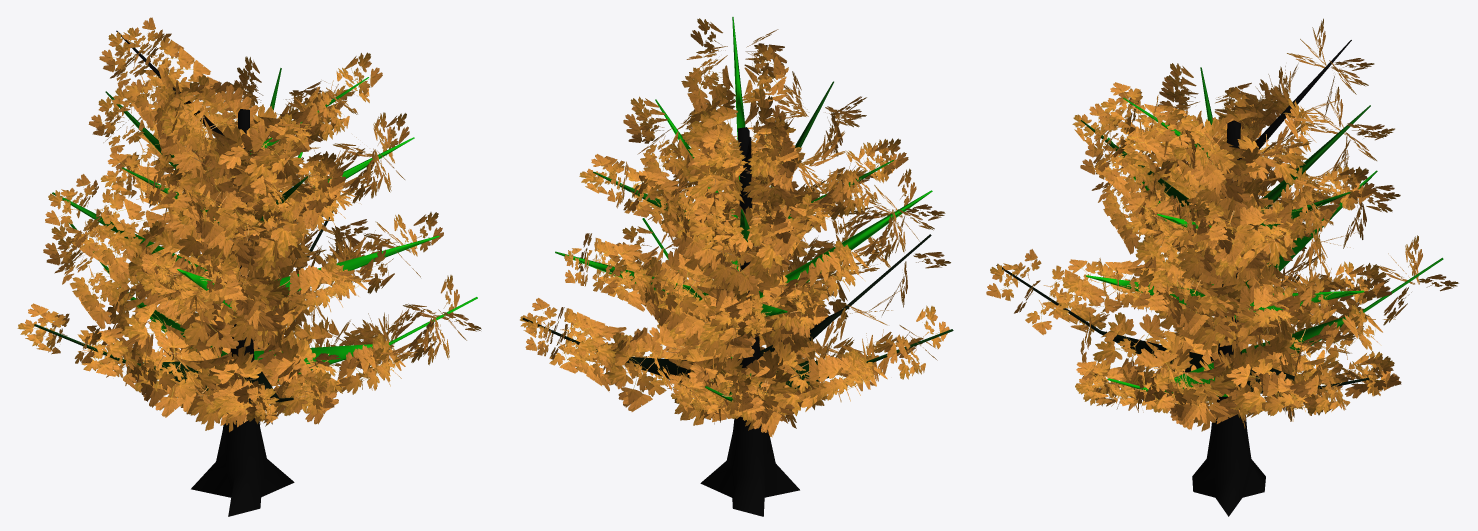
The model's file is PlaceholderTree.fbx.
3 views of the same model, side by side, from view 1: azimuth 30°, elevation 25°; view 2: azimuth 150°, elevation 25°; view 3: azimuth 270°, elevation 25° (orthographic). The views are drawn at different scales.
Visible parts, largest first — view 1: branch05_1, bark04_0; view 2: branch05_1, bark04_0; view 3: branch05_1, bark04_0.
Part boxes in pixels (x1,y1,x2,y2): branch05_1: [17, 17, 481, 432]; bark04_0: [34, 30, 477, 516]; branch05_1: [520, 18, 950, 437]; bark04_0: [522, 17, 953, 516]; branch05_1: [986, 18, 1458, 431]; bark04_0: [996, 40, 1443, 516].
Size of the model in its own units: 722 by 786 by 777.
